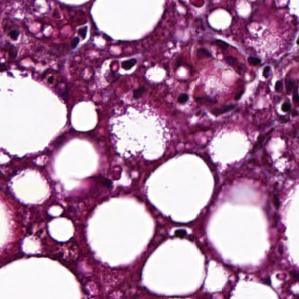steatosis: (81, 192, 155, 265), (148, 154, 218, 221), (145, 236, 201, 296), (54, 139, 101, 190), (7, 169, 50, 206), (70, 93, 102, 133)
